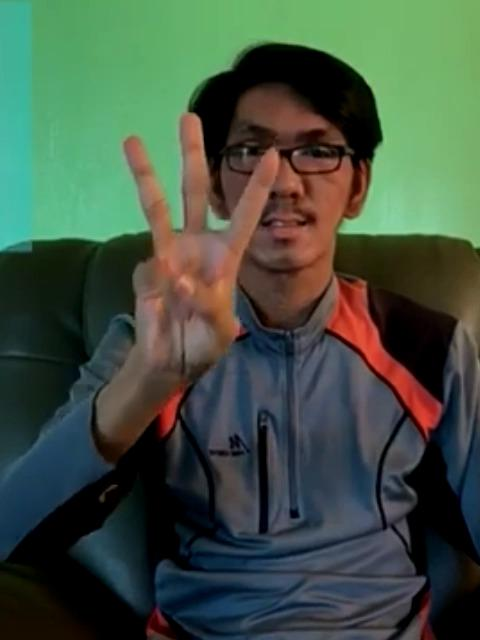W: (120, 113, 280, 383)
